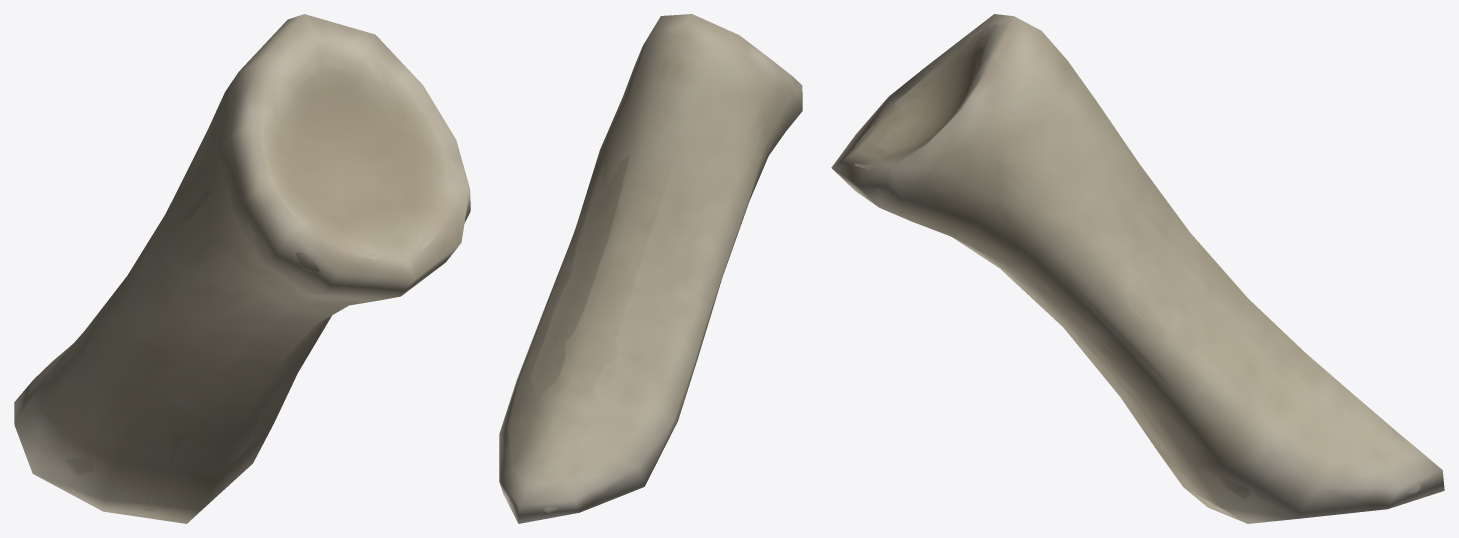
Rendered from vertebrae caudales 06.fbx.
3 renders of one model, left to right at view 1: azimuth 30°, elevation 25°; view 2: azimuth 150°, elevation 25°; view 3: azimuth 270°, elevation 25°, orthographic. The views are drawn at different scales.
Parts seen in each view (by area): view 1: vertebrae caudales 06, vertebrae caudales 06 high, vertebrae caudales 06 low; view 2: vertebrae caudales 06, vertebrae caudales 06 high, vertebrae caudales 06 low; view 3: vertebrae caudales 06, vertebrae caudales 06 high, vertebrae caudales 06 low.
Part boxes in pixels (<box>): vertebrae caudales 06: <box>14,14,470,523</box>; vertebrae caudales 06 high: <box>21,35,450,511</box>; vertebrae caudales 06 low: <box>14,14,470,523</box>; vertebrae caudales 06: <box>499,14,802,523</box>; vertebrae caudales 06 high: <box>504,49,792,513</box>; vertebrae caudales 06 low: <box>500,15,802,522</box>; vertebrae caudales 06: <box>831,14,1444,523</box>; vertebrae caudales 06 high: <box>854,23,1420,507</box>; vertebrae caudales 06 low: <box>833,21,1440,517</box>.
Bounding box in the file's own units: 0.6314 × 1.51 × 1.71.
Materials: 1 (1 with a texture image).
